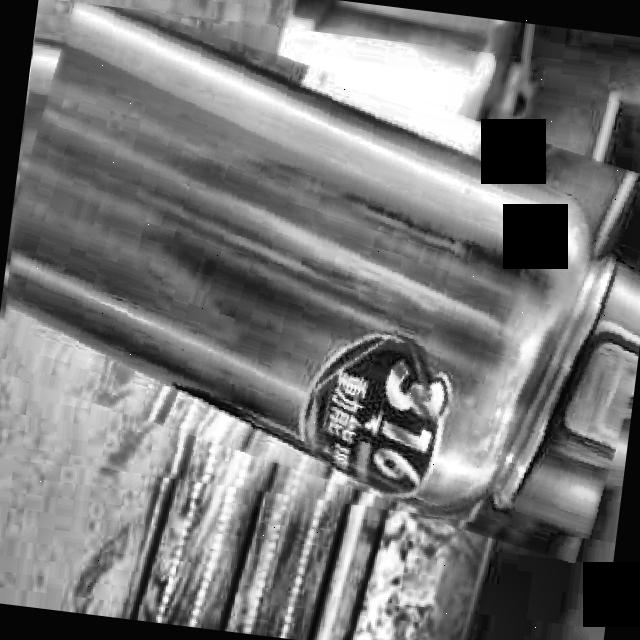bottle: (3, 2, 640, 538)
